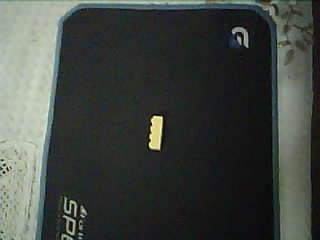lego: (148, 114, 164, 151)
